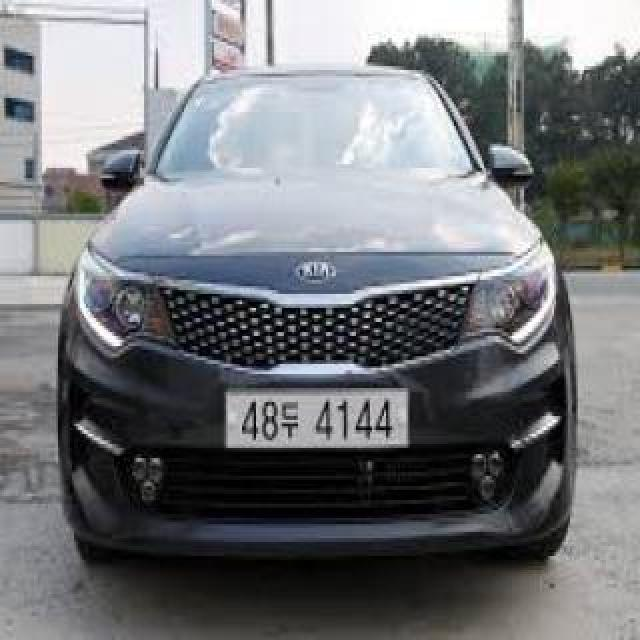car: (54, 62, 582, 602)
illegal_plate: (221, 381, 414, 462)
